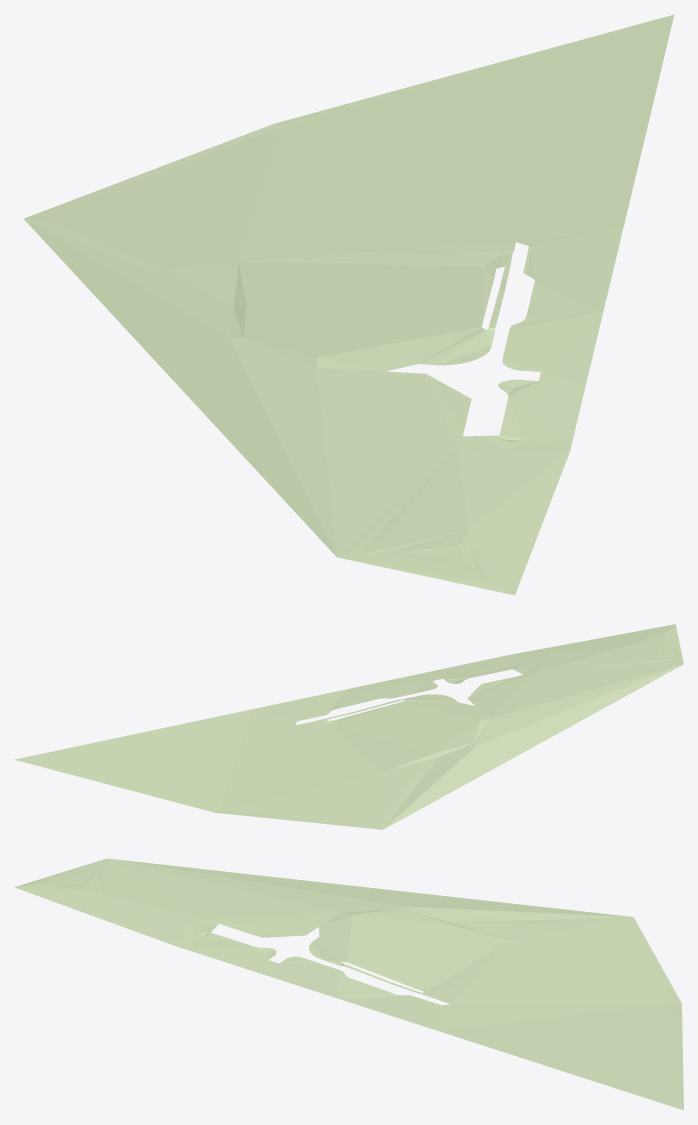
Rendered from 06_terrain_1_surface_projet_decoupe.glb.
3 views of the same model, one above another, from view 1: azimuth 30°, elevation 25°; view 2: azimuth 150°, elevation 25°; view 3: azimuth 270°, elevation 25° (orthographic). The views are drawn at different scales.
Visible parts, largest first — view 1: 2wUSu0vm1E09W0C01c06W0; view 2: 2wUSu0vm1E09W0C01c06W0; view 3: 2wUSu0vm1E09W0C01c06W0.
Boxes of the visible parts, left/top/right/bottom form: 2wUSu0vm1E09W0C01c06W0: left=24, top=14, right=674, bottom=595; 2wUSu0vm1E09W0C01c06W0: left=14, top=624, right=683, bottom=829; 2wUSu0vm1E09W0C01c06W0: left=14, top=858, right=683, bottom=1110.
Bounding box in the file's own units: 214 × 9.45 × 257.
